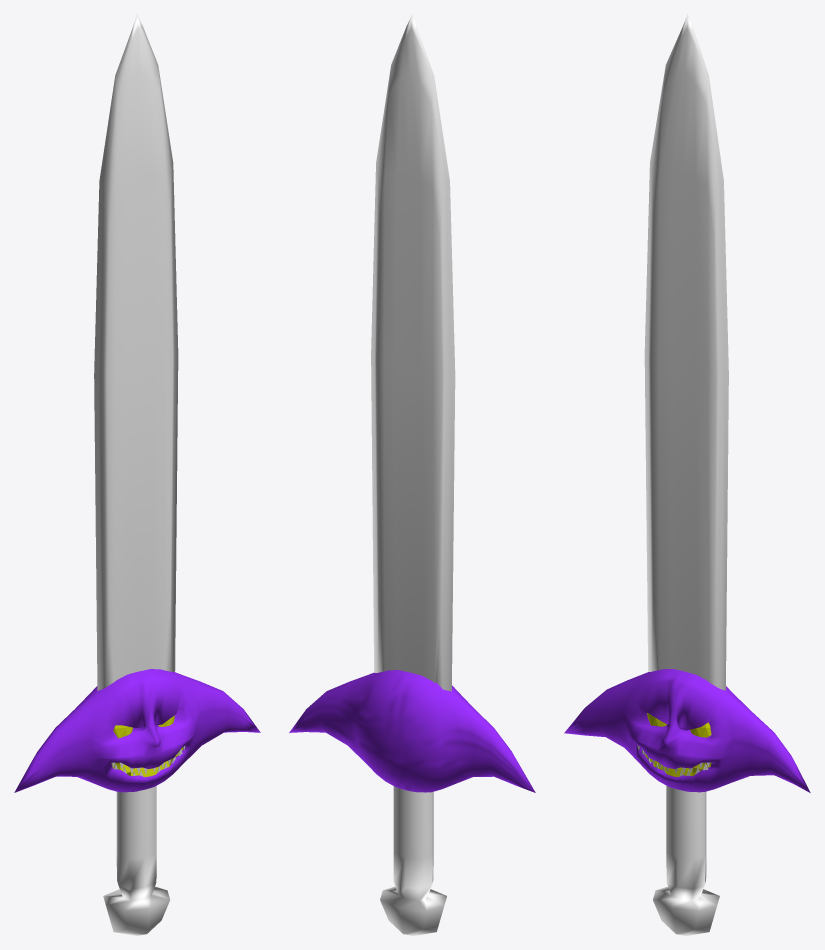
File: DemonSword.fbx
3 renders of one model, left to right at view 1: azimuth 30°, elevation 25°; view 2: azimuth 150°, elevation 25°; view 3: azimuth 330°, elevation 25°, orthographic.
Parts seen in each view (by area): view 1: demonSword1; view 2: demonSword1; view 3: demonSword1.
Boxes of the visible parts, x1=… form: demonSword1: x1=14, y1=14, x2=260, y2=935; demonSword1: x1=289, y1=14, x2=535, y2=935; demonSword1: x1=564, y1=14, x2=810, y2=935.
Bounding box in the file's own units: 3.23 × 11.53 × 0.9136.
